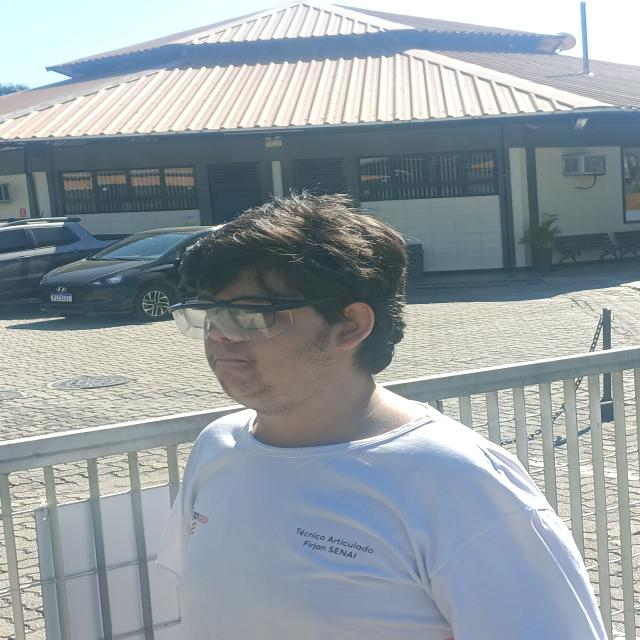oculos-epi: (168, 297, 337, 342)
